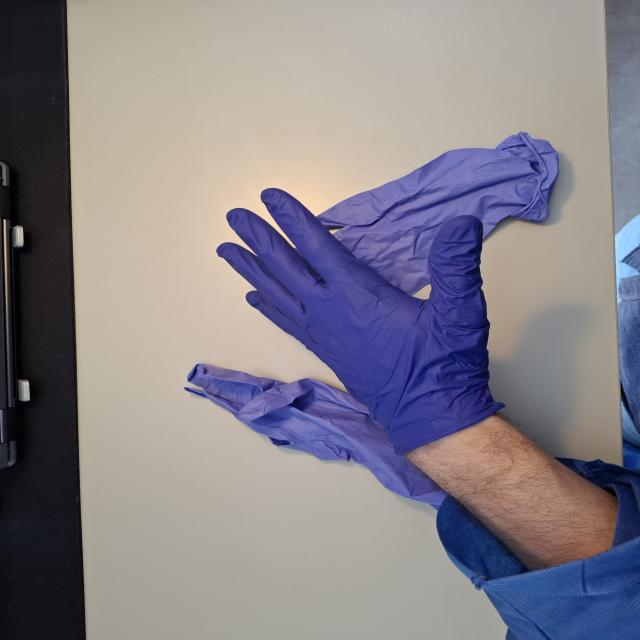glove_on: (215, 185, 493, 451)
